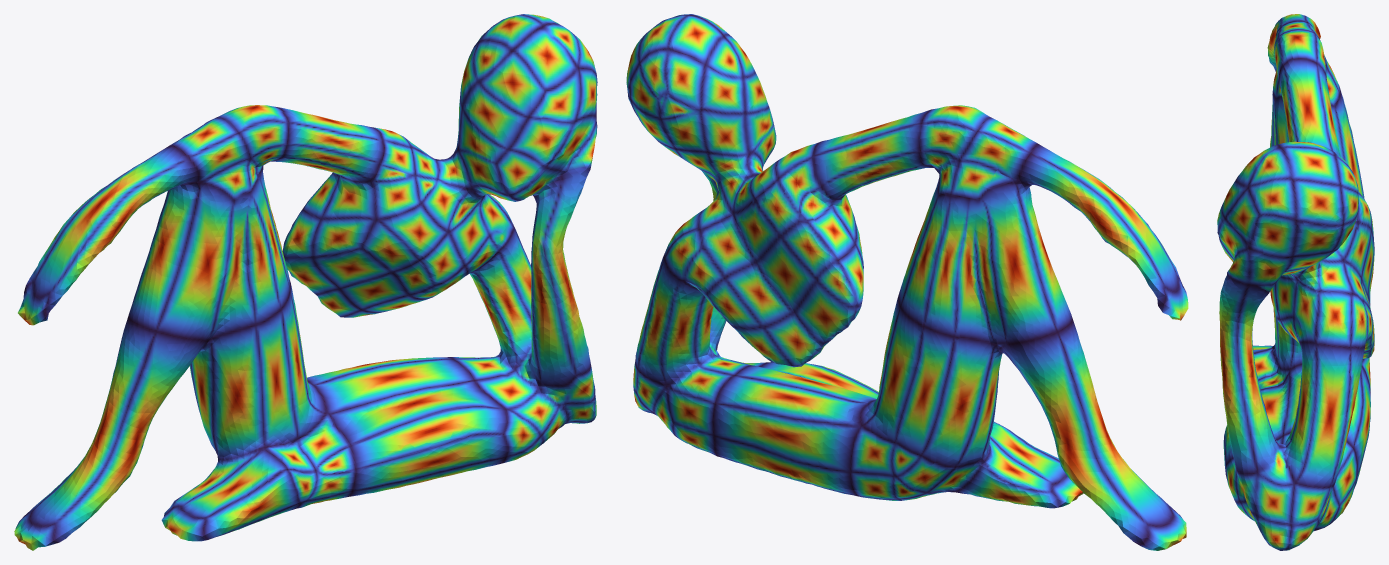
Rendered from gen2.glb.
3 views of the same model, side by side, from view 1: azimuth 30°, elevation 25°; view 2: azimuth 150°, elevation 25°; view 3: azimuth 270°, elevation 25° (orthographic). The views are drawn at different scales.
Visible parts, largest first — view 1: Node; view 2: Node; view 3: Node.
Boxes of the visible parts, <box> form: Node: <box>14,14,597,550</box>; Node: <box>626,14,1188,550</box>; Node: <box>1217,14,1374,550</box>.
Bounding box in the file's own units: 0.9985 × 0.7006 × 0.2574.
Materials: 1 (1 with a texture image).
